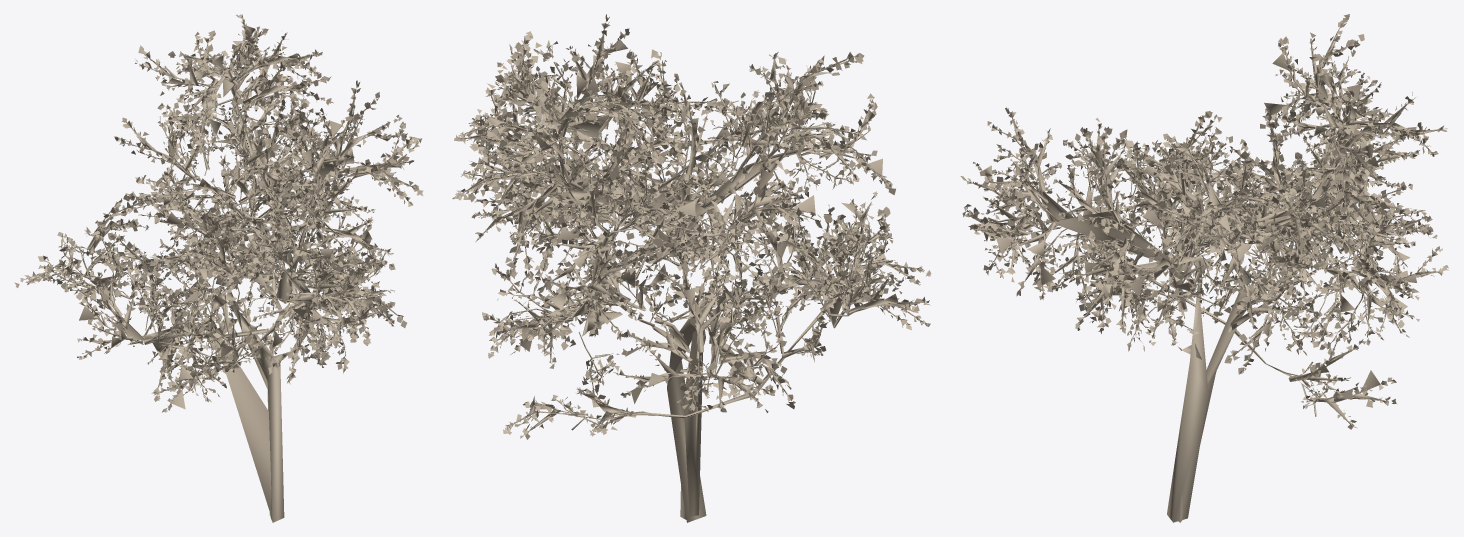
Rendered from 3dcodebench_Tree_seed0.glb.
3 renders of one model, left to right at view 1: azimuth 30°, elevation 25°; view 2: azimuth 150°, elevation 25°; view 3: azimuth 270°, elevation 25°, orthographic. The views are drawn at different scales.
Visible parts, largest first — view 1: object; view 2: object; view 3: object.
Boxes of the visible parts, left/top/right/bottom form: object: left=14, top=14, right=423, bottom=522; object: left=452, top=14, right=931, bottom=522; object: left=960, top=14, right=1448, bottom=522.
Bounding box in the file's own units: 24.57 × 30.13 × 27.04.
